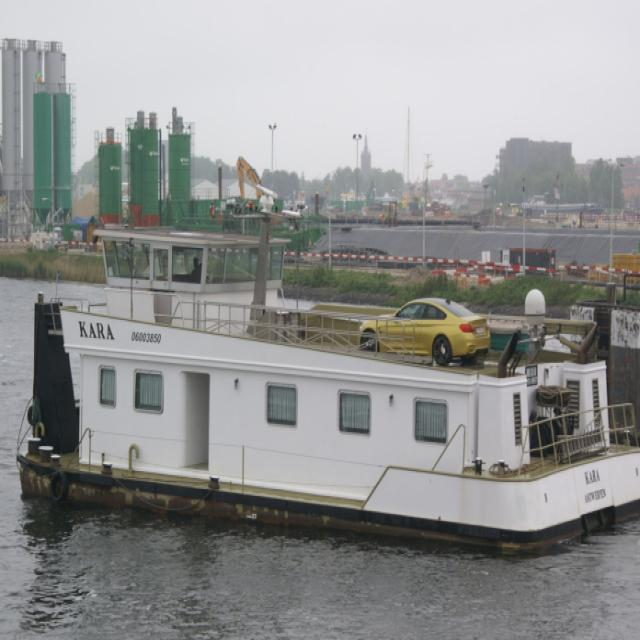tugboat: (15, 177, 640, 565)
